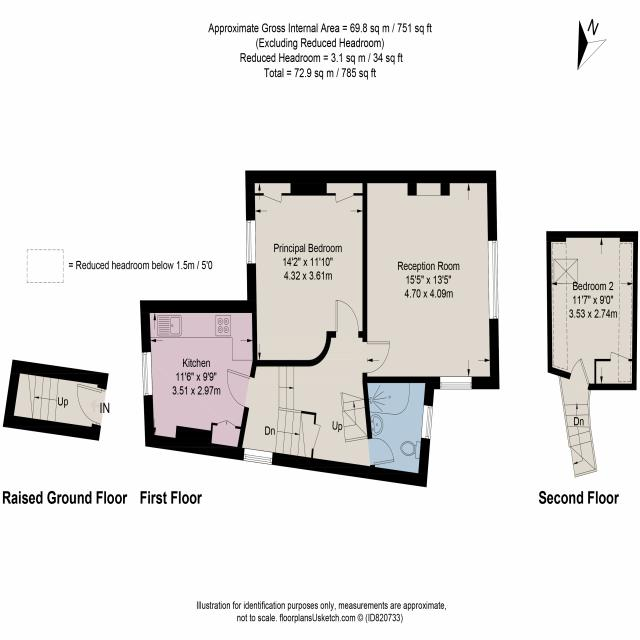DOOR: (224, 363, 255, 412), (334, 295, 361, 338), (362, 338, 393, 375), (367, 434, 399, 467), (567, 353, 592, 390)
ROOM: (363, 170, 500, 405), (245, 170, 368, 368), (140, 300, 258, 462), (546, 231, 638, 391)
WINDOW: (486, 236, 500, 323), (140, 348, 155, 397), (244, 214, 258, 266), (242, 446, 274, 467), (420, 401, 436, 441), (439, 373, 473, 391)
